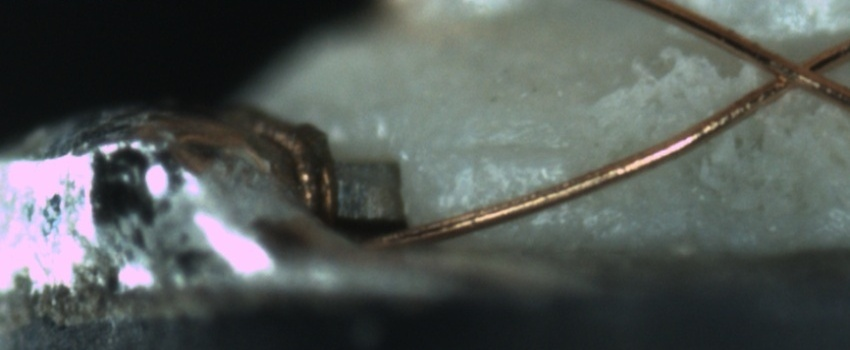CL: (746, 39, 844, 102)
DL: (445, 121, 584, 182)
TE: (243, 111, 342, 216)
